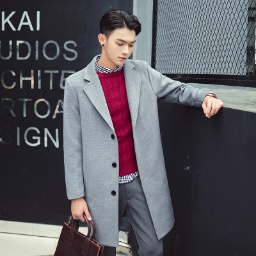face: (98, 9, 141, 67)
